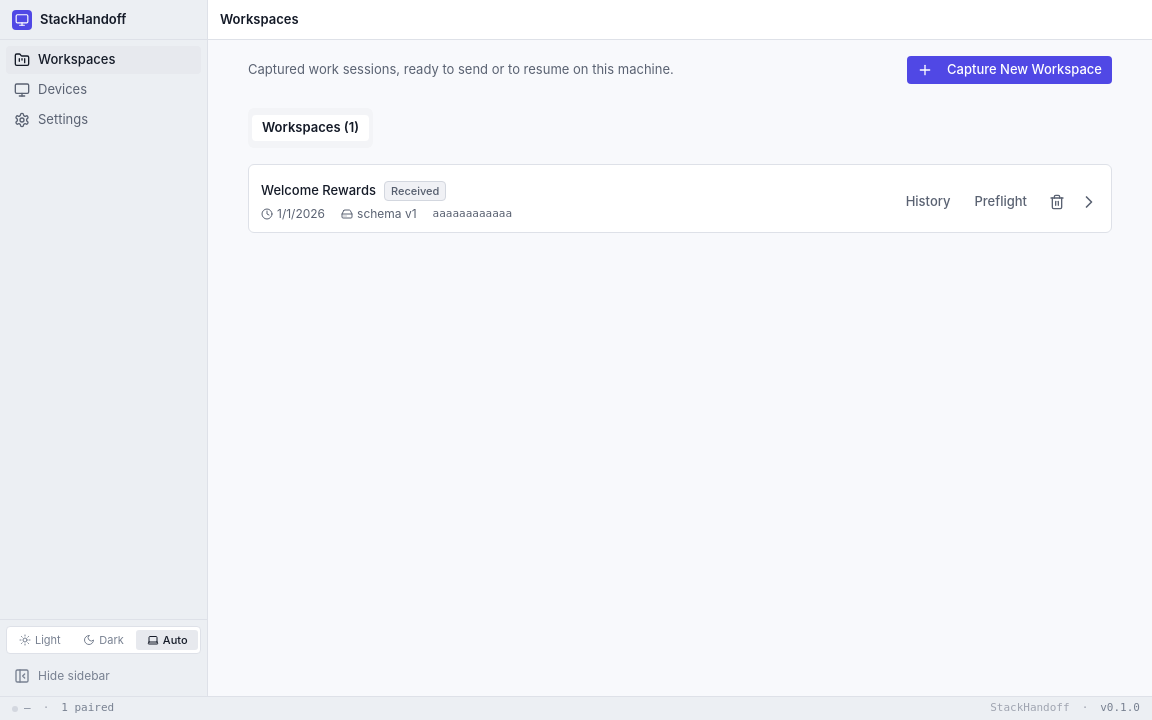
Test case: transfer history answers "did it get there?" › shows the error a failed transfer recorded
Click the button "History": point(928, 202) [898,190,958,214]
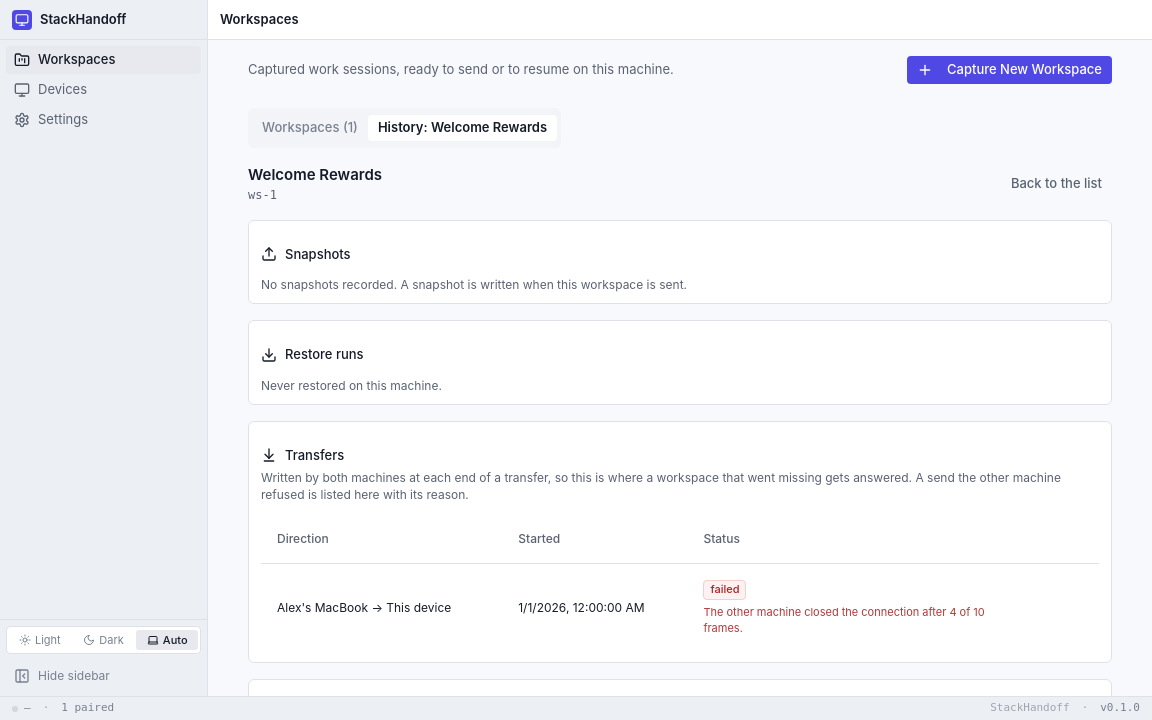
Expected: the text "closed the connection after 4 of 10 frames" is shown, [703,604,985,634]
Expected: the text "failed" is shown, [703,580,746,600]
